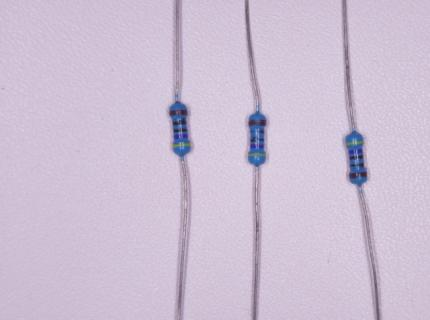Violet band: (349, 149, 363, 154), (174, 134, 187, 139), (251, 144, 264, 148)
Yellow band: (346, 140, 363, 146), (173, 142, 190, 147), (248, 153, 266, 156)
